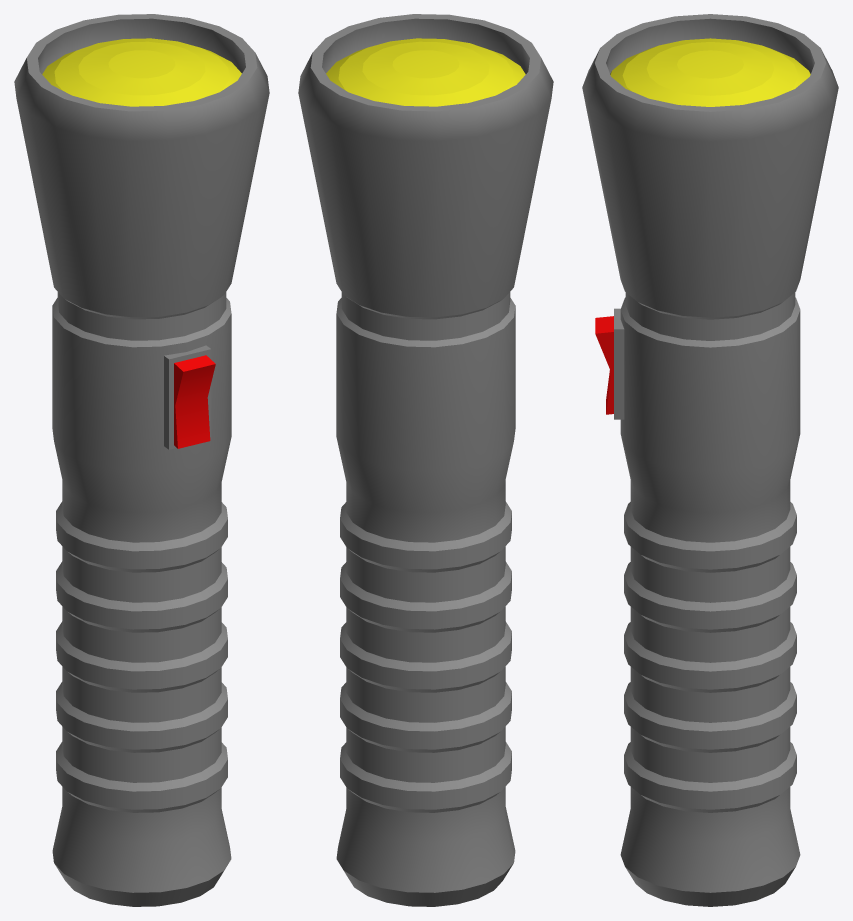
The model's file is Flashlight_proxy.fbx.
3 renders of one model, left to right at view 1: azimuth 30°, elevation 25°; view 2: azimuth 150°, elevation 25°; view 3: azimuth 270°, elevation 25°, orthographic.
Parts seen in each view (by area): view 1: TorchBody, torchlens, torchclicker, torchclickerbase; view 2: TorchBody, torchlens; view 3: TorchBody, torchlens, torchclickerbase, torchclicker.
Boxes of the visible parts, x1,y1,x2,y2 form: TorchBody: (14,14,269,906); torchlens: (42,38,241,106); torchclicker: (174,355,215,448); torchclickerbase: (164,345,211,449); TorchBody: (298,14,553,906); torchlens: (326,38,525,106); TorchBody: (582,14,838,906); torchlens: (610,38,810,106); torchclickerbase: (614,308,624,419); torchclicker: (595,316,613,414).
Bounding box in the file's own units: 0.178 × 0.6206 × 0.178.
